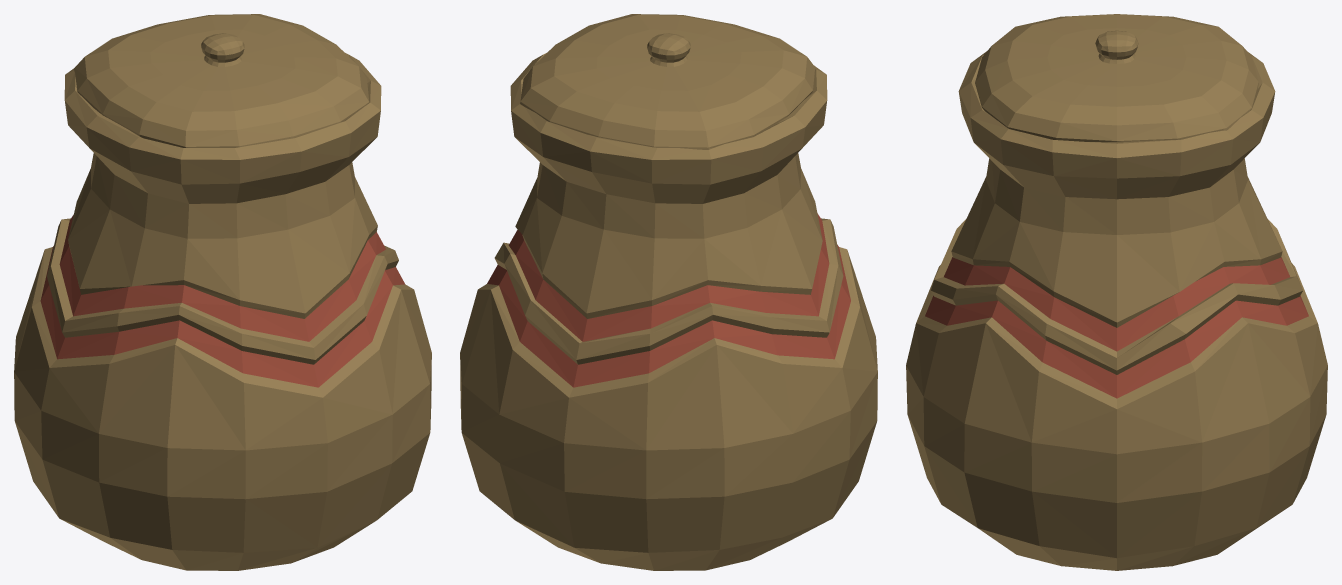
File: Pot1.glb
The picture shows the model from 3 angles, left to right: view 1: azimuth 30°, elevation 25°; view 2: azimuth 150°, elevation 25°; view 3: azimuth 270°, elevation 25°; orthographic projection.
Parts seen in each view (by area): view 1: Pot1; view 2: Pot1; view 3: Pot1.
Part boxes in pixels (x1,y1,x2,y2): Pot1: [14, 14, 431, 570]; Pot1: [460, 14, 877, 570]; Pot1: [906, 14, 1327, 570].
Size of the model in its own units: 0.7684 by 0.9617 by 0.7683.
